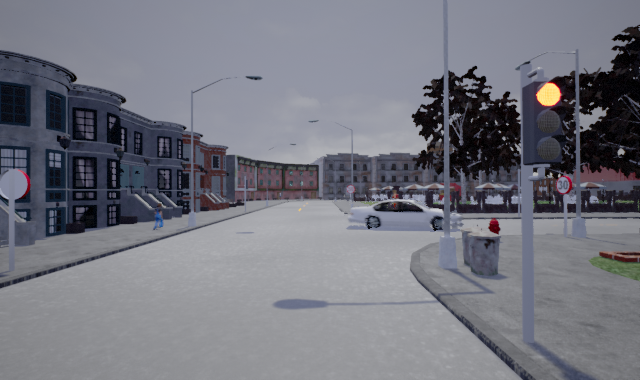pedestrian: (147, 200, 169, 229), (389, 188, 402, 215)
vehicle: (344, 199, 465, 233)
